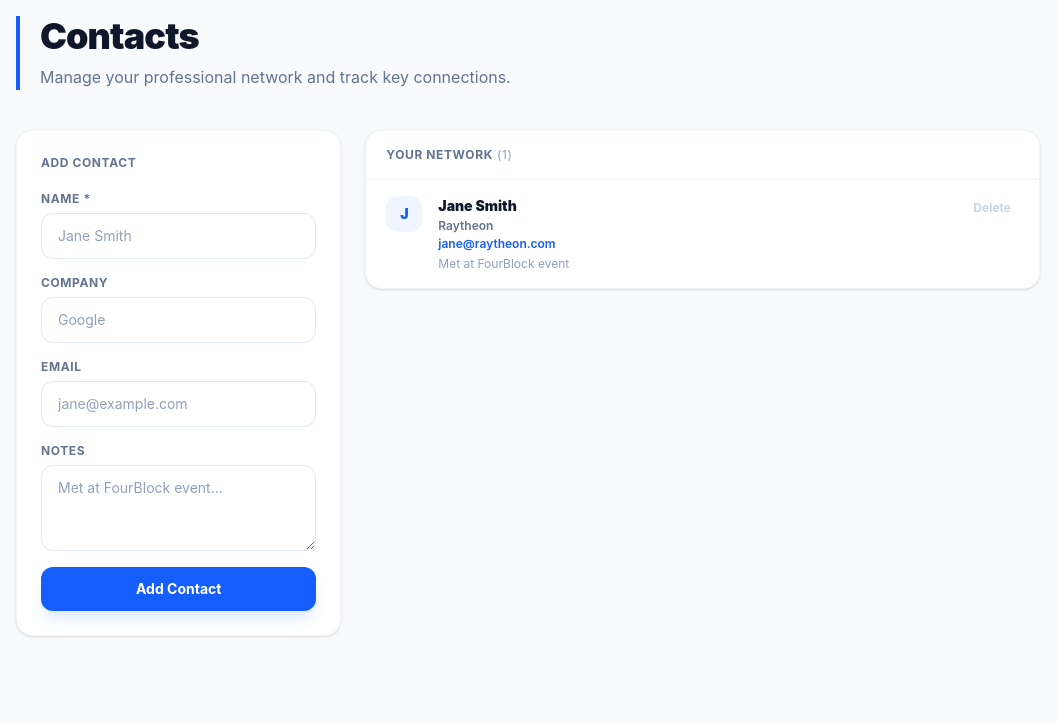
Test case: ContactsPage › displays an error message when a contact delete fails
This screenshot has width=1057, height=724.
Check: the text "Jane Smith" is shown, box [438,197,517,214]
Click the button "Delete" at (992, 208), box [965,196,1019,220]
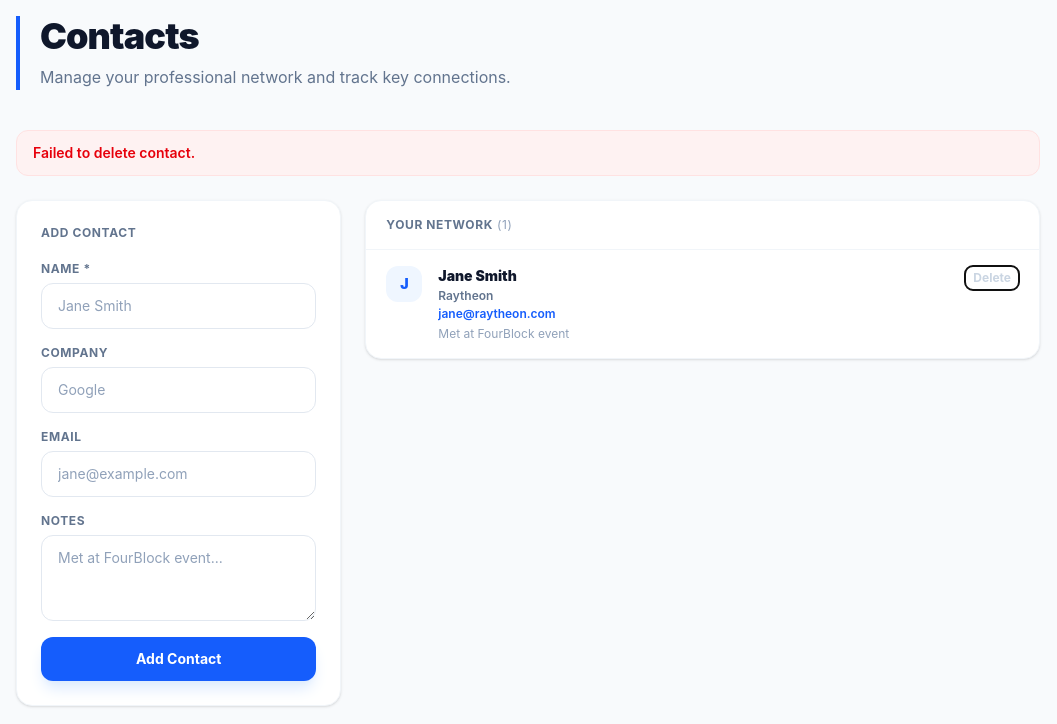
Check: the text "Failed to delete contact." is shown, box [16,130,1040,176]
